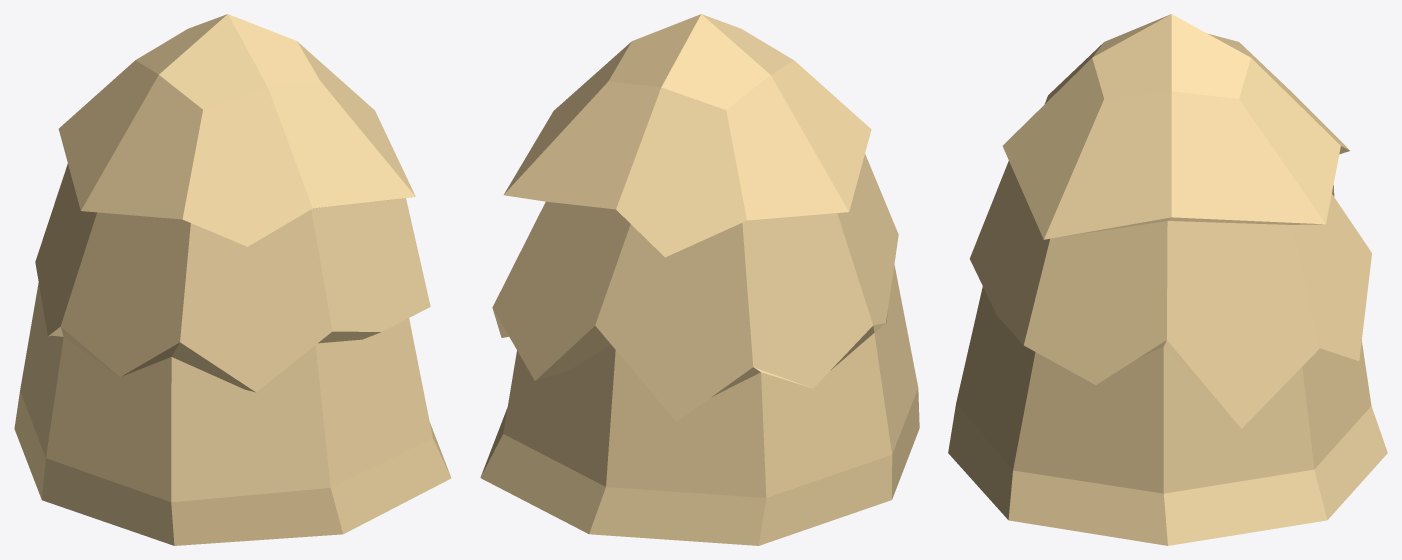
The model's file is haystack.glb.
The picture shows the model from 3 angles, left to right: view 1: azimuth 30°, elevation 25°; view 2: azimuth 150°, elevation 25°; view 3: azimuth 270°, elevation 25°; orthographic projection.
Visible parts, largest first — view 1: Haystack; view 2: Haystack; view 3: Haystack.
Boxes of the visible parts, x1=… form: Haystack: x1=14, y1=14, x2=451, y2=545; Haystack: x1=480, y1=14, x2=919, y2=545; Haystack: x1=948, y1=14, x2=1387, y2=545.
Size of the model in its own units: 1.99 by 2.18 by 1.99.
